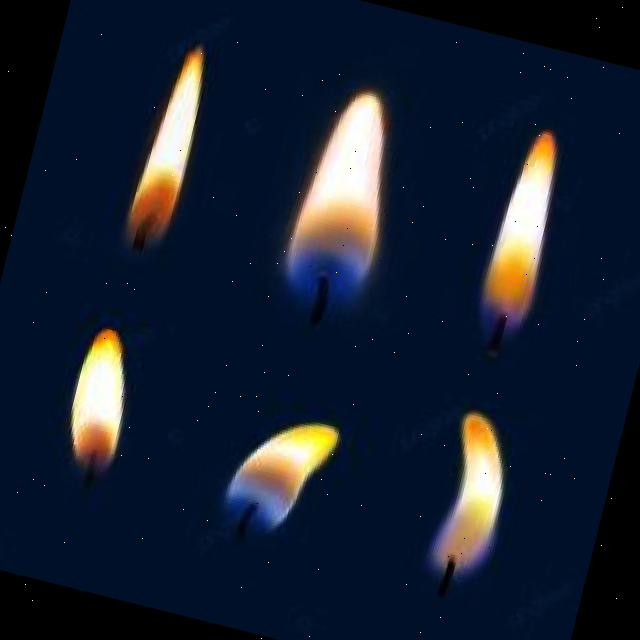fire: (278, 82, 412, 311), (470, 124, 573, 346), (120, 39, 214, 257), (424, 410, 522, 584), (220, 406, 341, 544), (58, 323, 143, 472)
